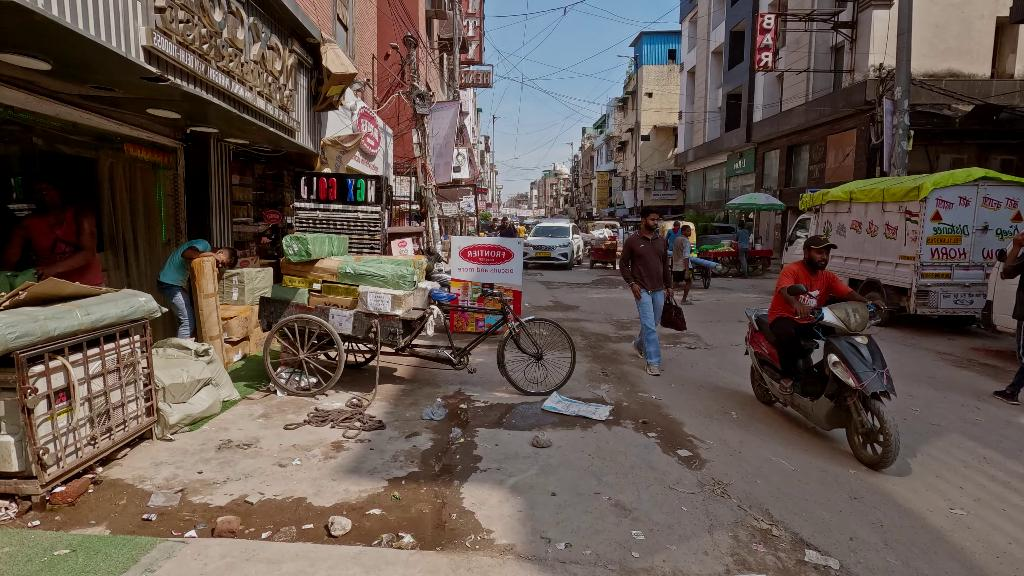garbage: (539, 391, 612, 421), (147, 489, 183, 513), (319, 516, 356, 538), (421, 401, 449, 421)
